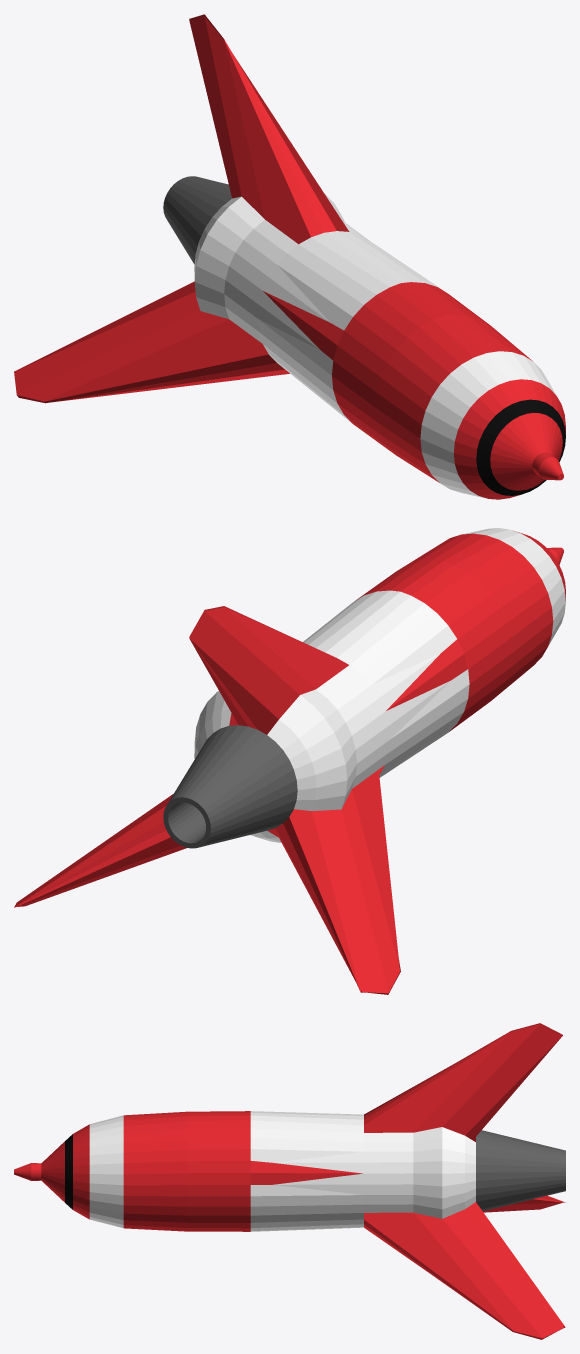
File: AllyRocket.fbx
3 renders of one model, top to bottom at view 1: azimuth 30°, elevation 25°; view 2: azimuth 150°, elevation 25°; view 3: azimuth 270°, elevation 25°, orthographic. The views are drawn at different scales.
Visible parts, largest first — view 1: Cylinder; view 2: Cylinder; view 3: Cylinder.
Part boxes in pixels (bbox=[...]): Cylinder: bbox=[14, 14, 565, 499]; Cylinder: bbox=[14, 528, 565, 994]; Cylinder: bbox=[14, 1023, 565, 1339].
Bounding box in the file's own units: 1024 × 895 × 1783.
